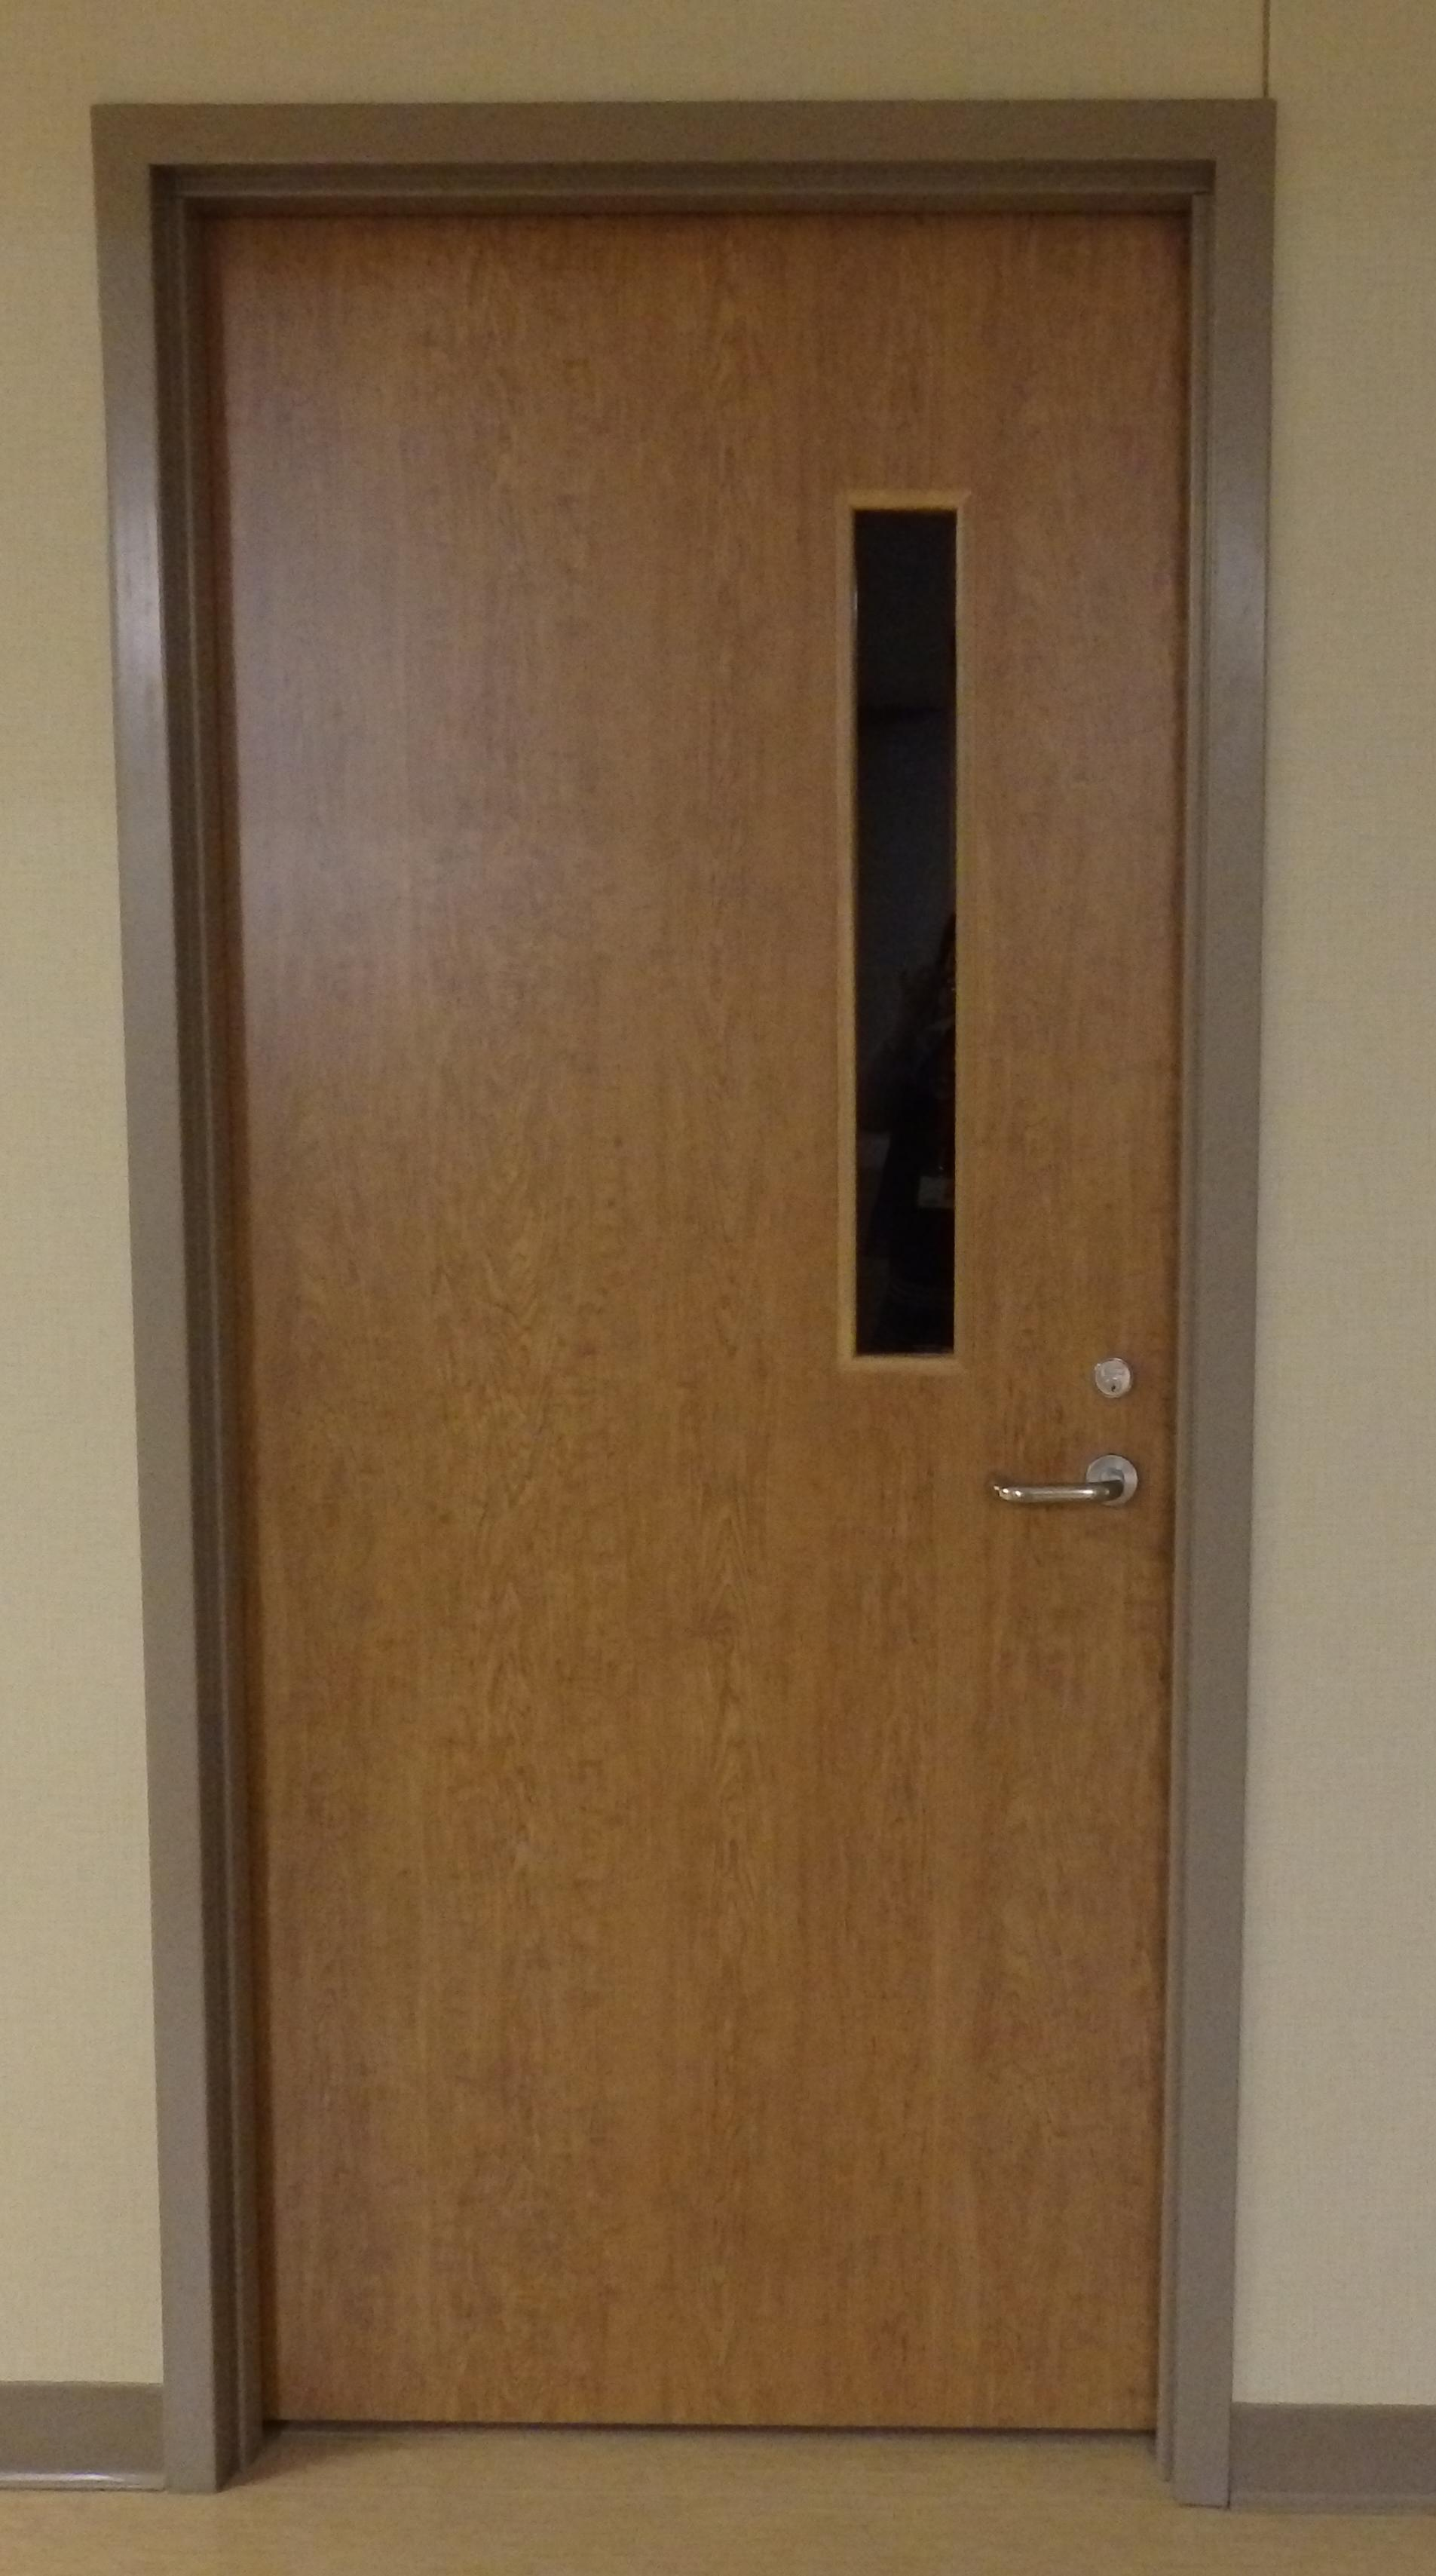door: (149, 147, 1183, 2465)
